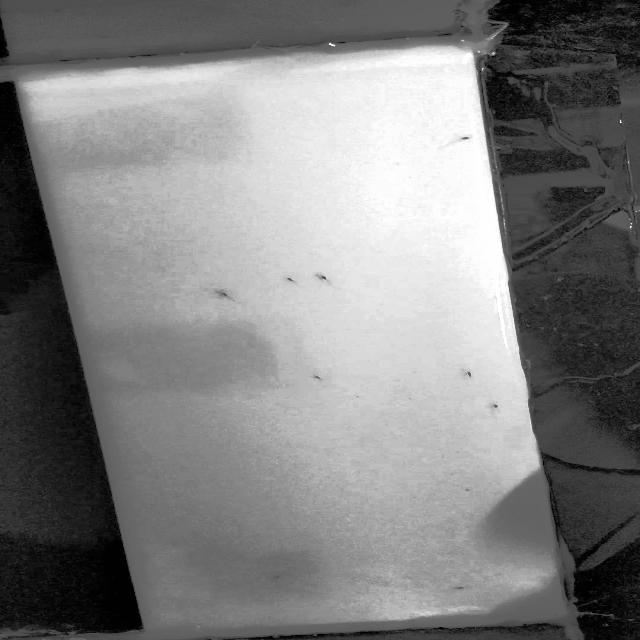shrimp: (309, 271, 344, 290), (211, 288, 244, 304), (266, 568, 301, 582), (453, 132, 478, 147), (482, 398, 504, 411), (458, 367, 477, 382), (444, 583, 472, 593), (310, 374, 330, 387), (280, 274, 306, 284)
